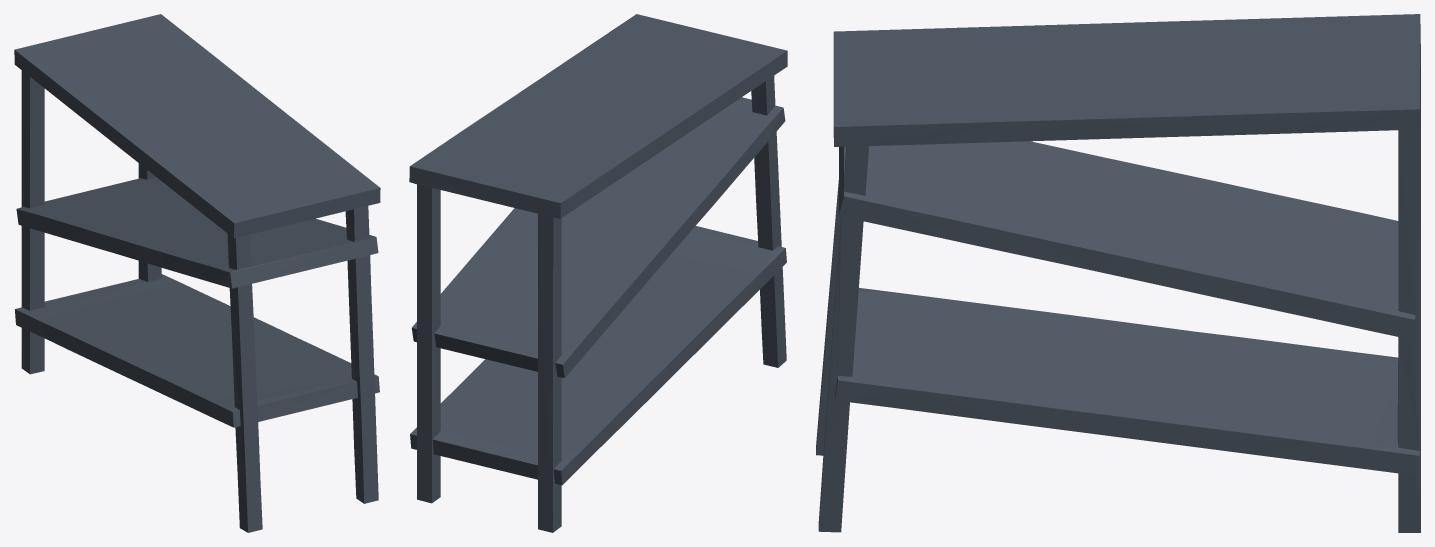
The model's file is kaputtesMetallregal.glb.
3 renders of one model, left to right at view 1: azimuth 30°, elevation 25°; view 2: azimuth 150°, elevation 25°; view 3: azimuth 270°, elevation 25°, orthographic. The views are drawn at different scales.
Visible parts, largest first — view 1: 280310_23_05_25_06_43_01_0; view 2: 280310_23_05_25_06_43_01_0; view 3: 280310_23_05_25_06_43_01_0.
Part boxes in pixels (<box>): 280310_23_05_25_06_43_01_0: <box>14,14,380,532</box>; 280310_23_05_25_06_43_01_0: <box>409,14,787,532</box>; 280310_23_05_25_06_43_01_0: <box>816,14,1420,532</box>.
Bounding box in the file's own units: 4 × 8.37 × 10.71.
1 material, 1 textured.
